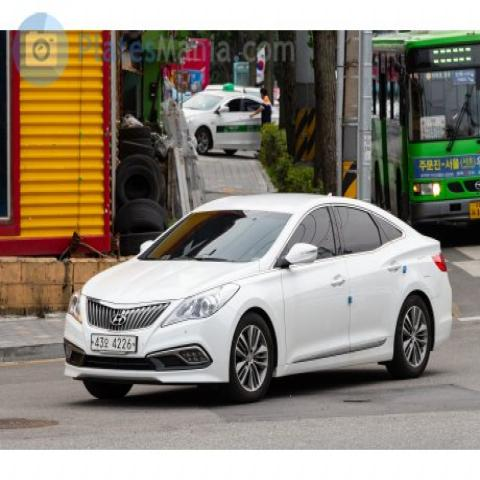LP: (88, 327, 146, 357)
